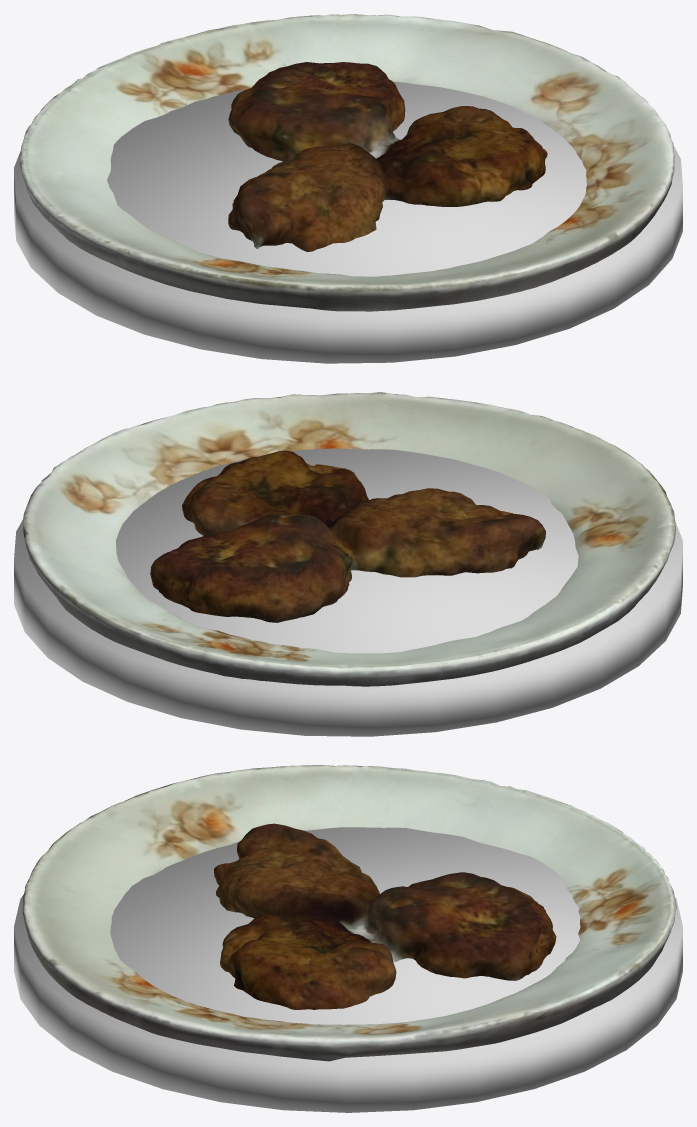
Rendered from shaamii_b.glb.
The picture shows the model from 3 angles, top to bottom: view 1: azimuth 30°, elevation 25°; view 2: azimuth 150°, elevation 25°; view 3: azimuth 270°, elevation 25°; orthographic projection.
Parts seen in each view (by area): view 1: 3DModel; view 2: 3DModel; view 3: 3DModel.
Boxes of the visible parts, x1,y1,x2,y2 form: 3DModel: [14, 14, 682, 363]; 3DModel: [14, 392, 682, 736]; 3DModel: [14, 765, 682, 1112].
Size of the model in its own units: 0.4984 by 0.0731 by 0.4984.
2 materials, 1 textured.
